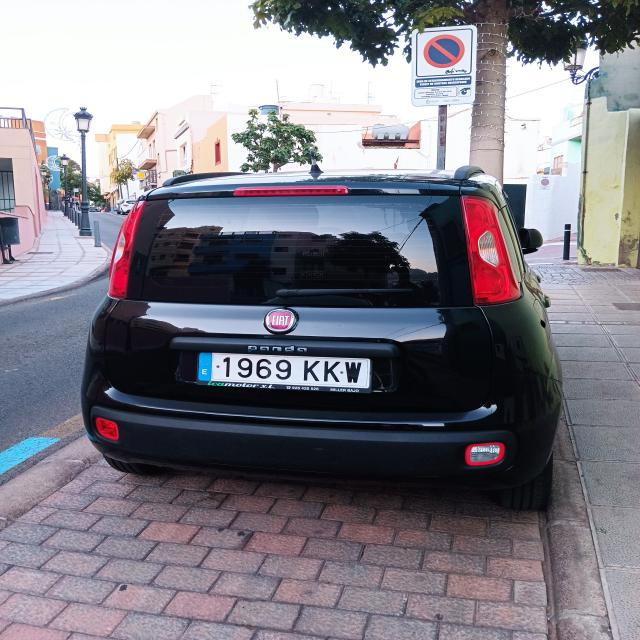football: (198, 353, 370, 388)
